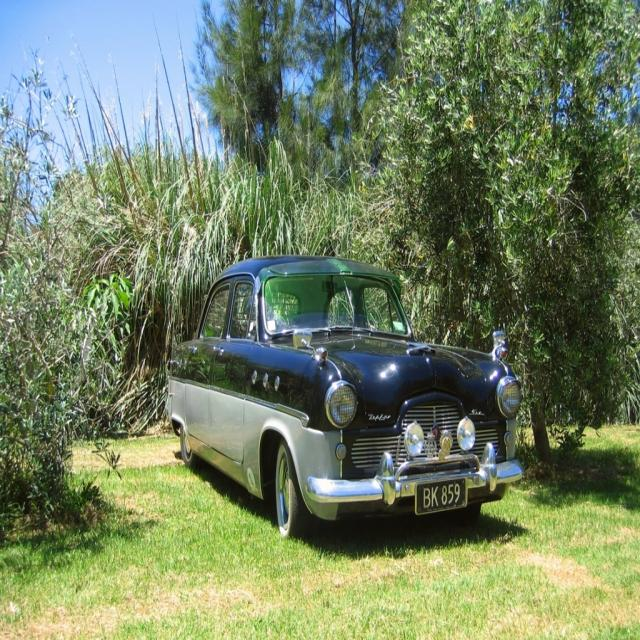Passenger Car: (167, 256, 524, 541)
